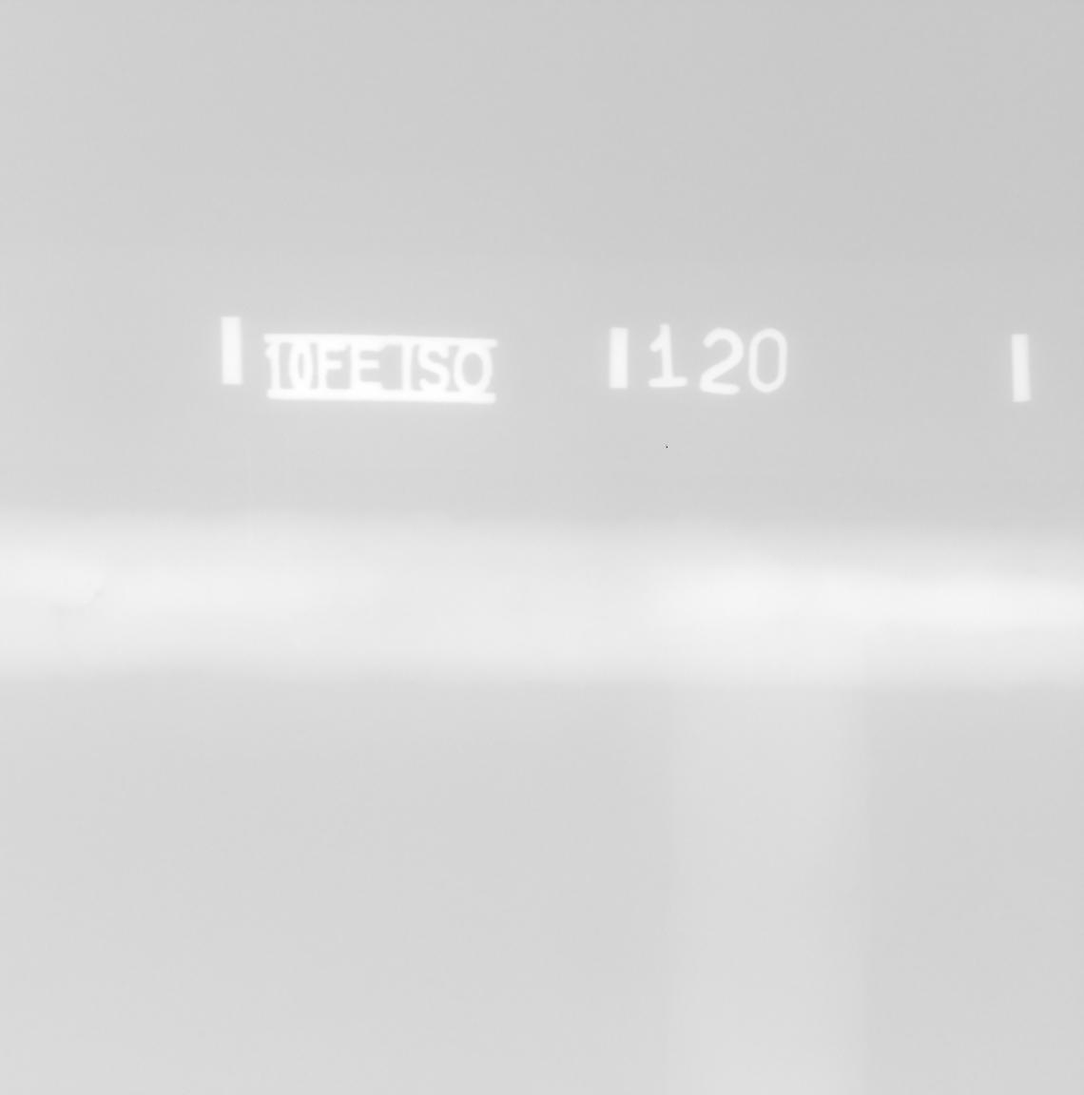Pore/Porosity: (95, 592, 102, 597), (89, 584, 93, 586)
